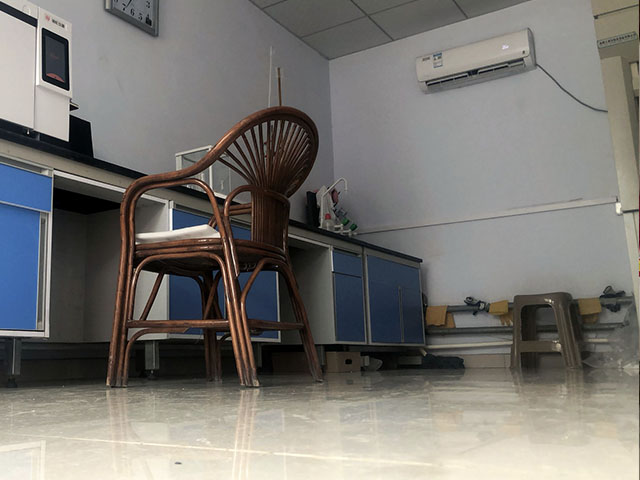cabinet: (1, 121, 62, 380), (332, 231, 433, 371)
stool: (105, 103, 327, 388), (508, 291, 586, 373)
